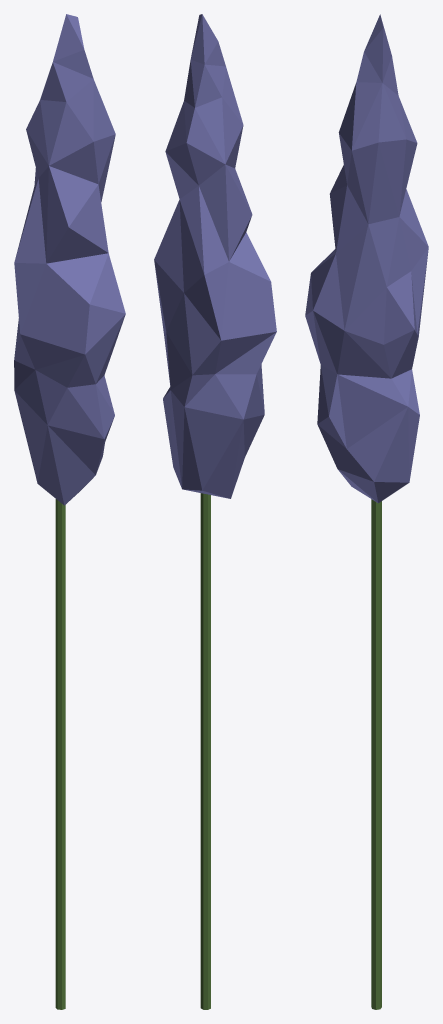
The model's file is SFV_Flower_008.fbx.
The picture shows the model from 3 angles, left to right: view 1: azimuth 90°, elevation 25°; view 2: azimuth 150°, elevation 25°; view 3: azimuth 330°, elevation 25°; orthographic projection.
Visible parts, largest first — view 1: SFV_Flower_008; view 2: SFV_Flower_008; view 3: SFV_Flower_008.
Boxes of the visible parts, x1=… form: SFV_Flower_008: x1=14, y1=14, x2=125, y2=1009; SFV_Flower_008: x1=154, y1=14, x2=276, y2=1009; SFV_Flower_008: x1=305, y1=14, x2=428, y2=1009.
Size of the model in its own units: 7.58 by 70.48 by 7.2.
